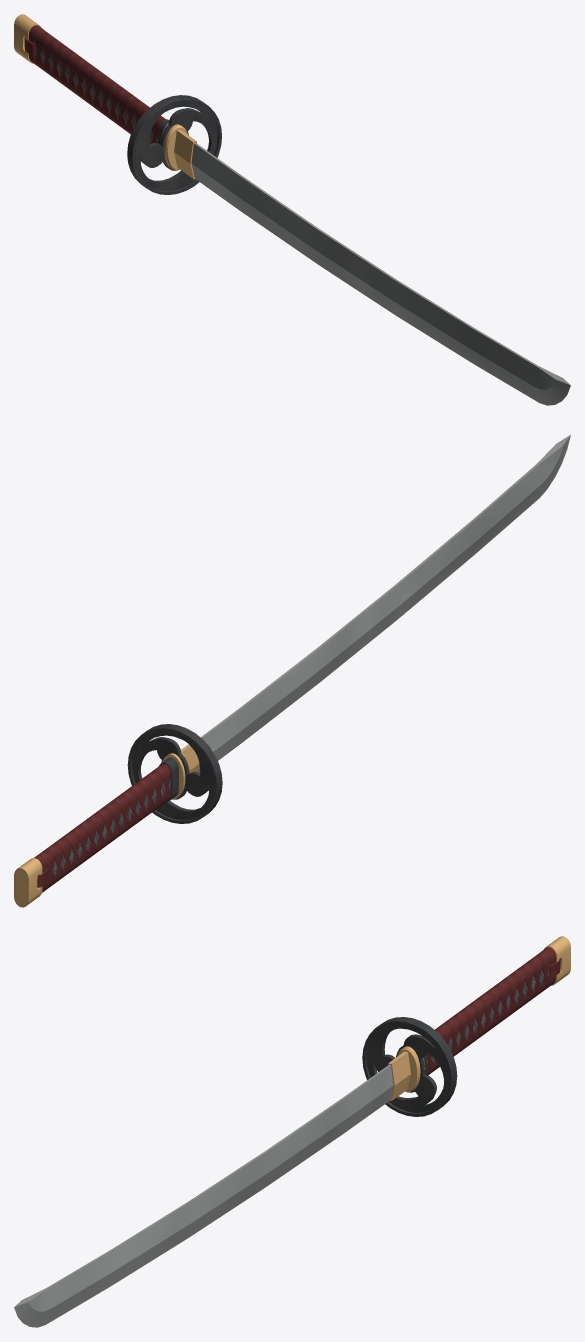
The model's file is 武士刀.glb.
3 views of the same model, one above another, from view 1: azimuth 30°, elevation 25°; view 2: azimuth 150°, elevation 25°; view 3: azimuth 330°, elevation 25° (orthographic).
Visible parts, largest first — view 1: jamon_low, tsuba_low, tsuka-ito_low, habaki_low, tsuka_low, kasira_low, habaki_01_low.; view 2: jamon_low, tsuka-ito_low, tsuba_low, kasira_low, tsuka_low; view 3: jamon_low, tsuba_low, tsuka-ito_low, habaki_low, tsuka_low, kasira_low, habaki_01_low..
Part boxes in pixels (x1=…): jamon_low: x1=191, y1=143, x2=570, y2=405; tsuba_low: x1=127, y1=95, x2=221, y2=194; tsuka-ito_low: x1=34, y1=29, x2=165, y2=143; habaki_low: x1=174, y1=129, x2=196, y2=179; tsuka_low: x1=34, y1=41, x2=157, y2=143; kasira_low: x1=14, y1=14, x2=41, y2=63; habaki_01_low.: x1=160, y1=123, x2=187, y2=170; jamon_low: x1=198, y1=434, x2=570, y2=772; tsuka-ito_low: x1=38, y1=764, x2=171, y2=889; tsuba_low: x1=127, y1=724, x2=222, y2=823; kasira_low: x1=14, y1=858, x2=42, y2=907; tsuka_low: x1=46, y1=778, x2=170, y2=876; jamon_low: x1=14, y1=1065, x2=393, y2=1327; tsuba_low: x1=362, y1=1017, x2=457, y2=1116; tsuka-ito_low: x1=426, y1=951, x2=550, y2=1075; habaki_low: x1=388, y1=1051, x2=410, y2=1101; tsuka_low: x1=427, y1=963, x2=550, y2=1065; kasira_low: x1=543, y1=936, x2=570, y2=985; habaki_01_low.: x1=397, y1=1046, x2=424, y2=1092.
Bounding box in the file's own units: 0.1148 × 0.1182 × 1.22.
Materials: 1 (1 with a texture image).
